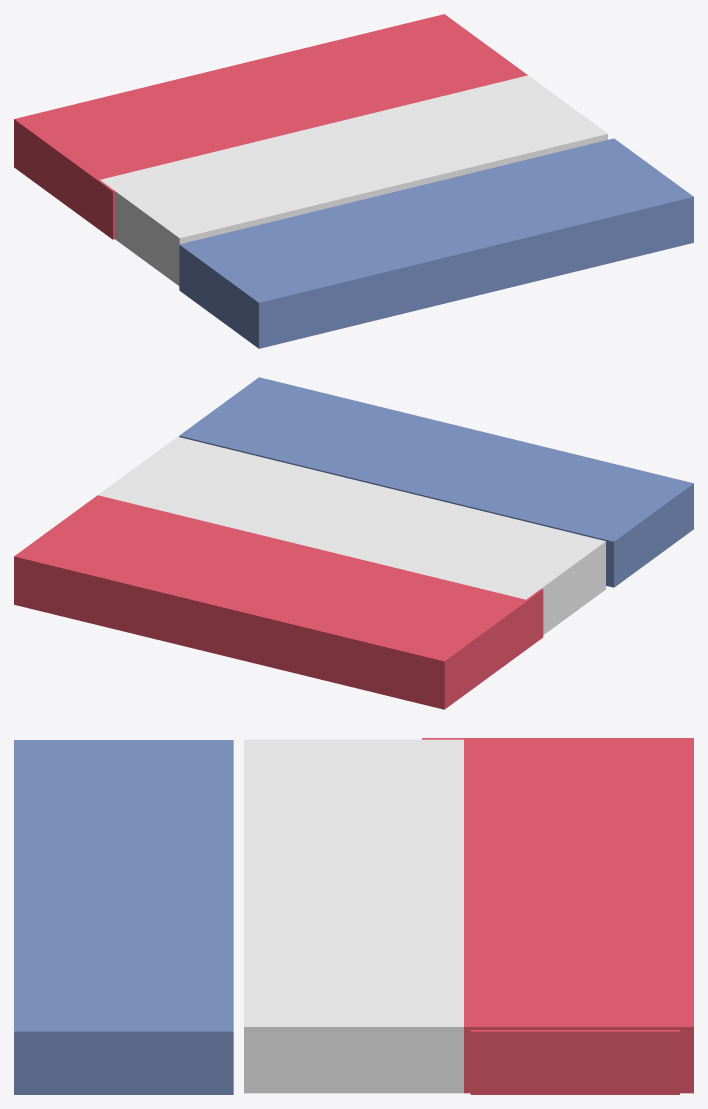
Rendered from Países Bajos.glb.
3 views of the same model, one above another, from view 1: azimuth 30°, elevation 25°; view 2: azimuth 150°, elevation 25°; view 3: azimuth 270°, elevation 25° (orthographic). The views are drawn at different scales.
Parts seen in each view (by area): view 1: Mesh_Mesh_head_geo.001_lambert2SG.001; view 2: Mesh_Mesh_head_geo.001_lambert2SG.001; view 3: Mesh_Mesh_head_geo.001_lambert2SG.001.
Part boxes in pixels (box(x1,y1,x2,y2)): Mesh_Mesh_head_geo.001_lambert2SG.001: box(14, 14, 693, 348); Mesh_Mesh_head_geo.001_lambert2SG.001: box(14, 377, 693, 709); Mesh_Mesh_head_geo.001_lambert2SG.001: box(14, 738, 693, 1094).
Size of the model in its own units: 0.198 by 0.021 by 0.195.
